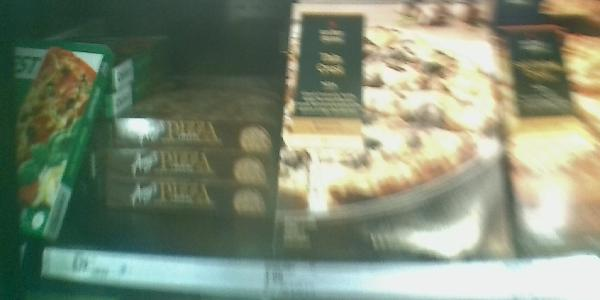pizza1: (274, 1, 518, 258)
pizza2: (103, 149, 275, 182), (102, 180, 275, 211), (105, 117, 278, 146)
